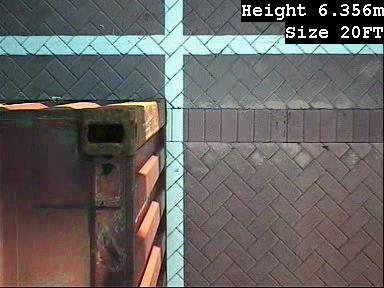groundmarker_2: (54, 65, 125, 111)
